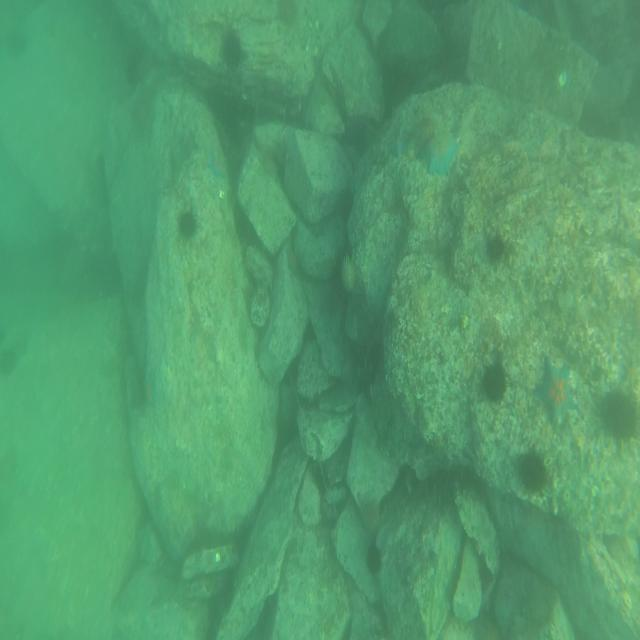echinus: (603, 383, 634, 449), (514, 442, 549, 494), (218, 28, 244, 72), (484, 356, 504, 408), (360, 496, 385, 533), (416, 110, 442, 141), (339, 259, 362, 288), (488, 237, 510, 263), (177, 212, 199, 238), (366, 540, 382, 574)
starfish: (536, 360, 576, 425), (426, 135, 460, 177), (140, 370, 157, 413), (204, 149, 227, 178)
